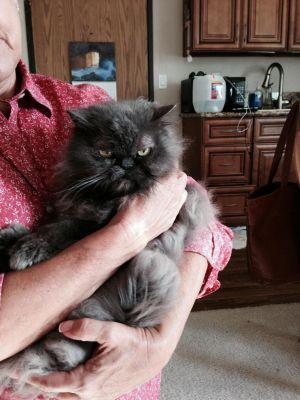persian: (64, 98, 186, 204)
